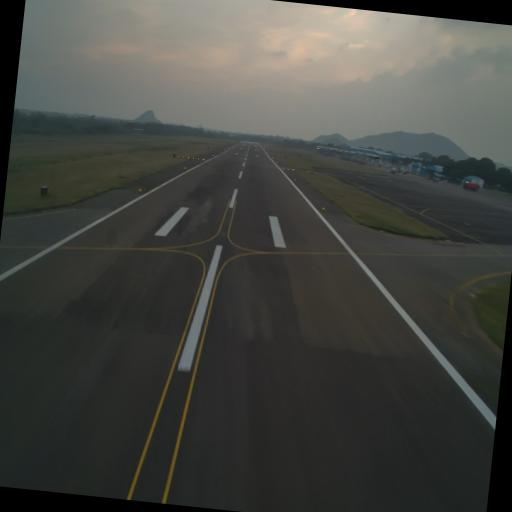on: (321, 204, 326, 212), (138, 188, 143, 192)
